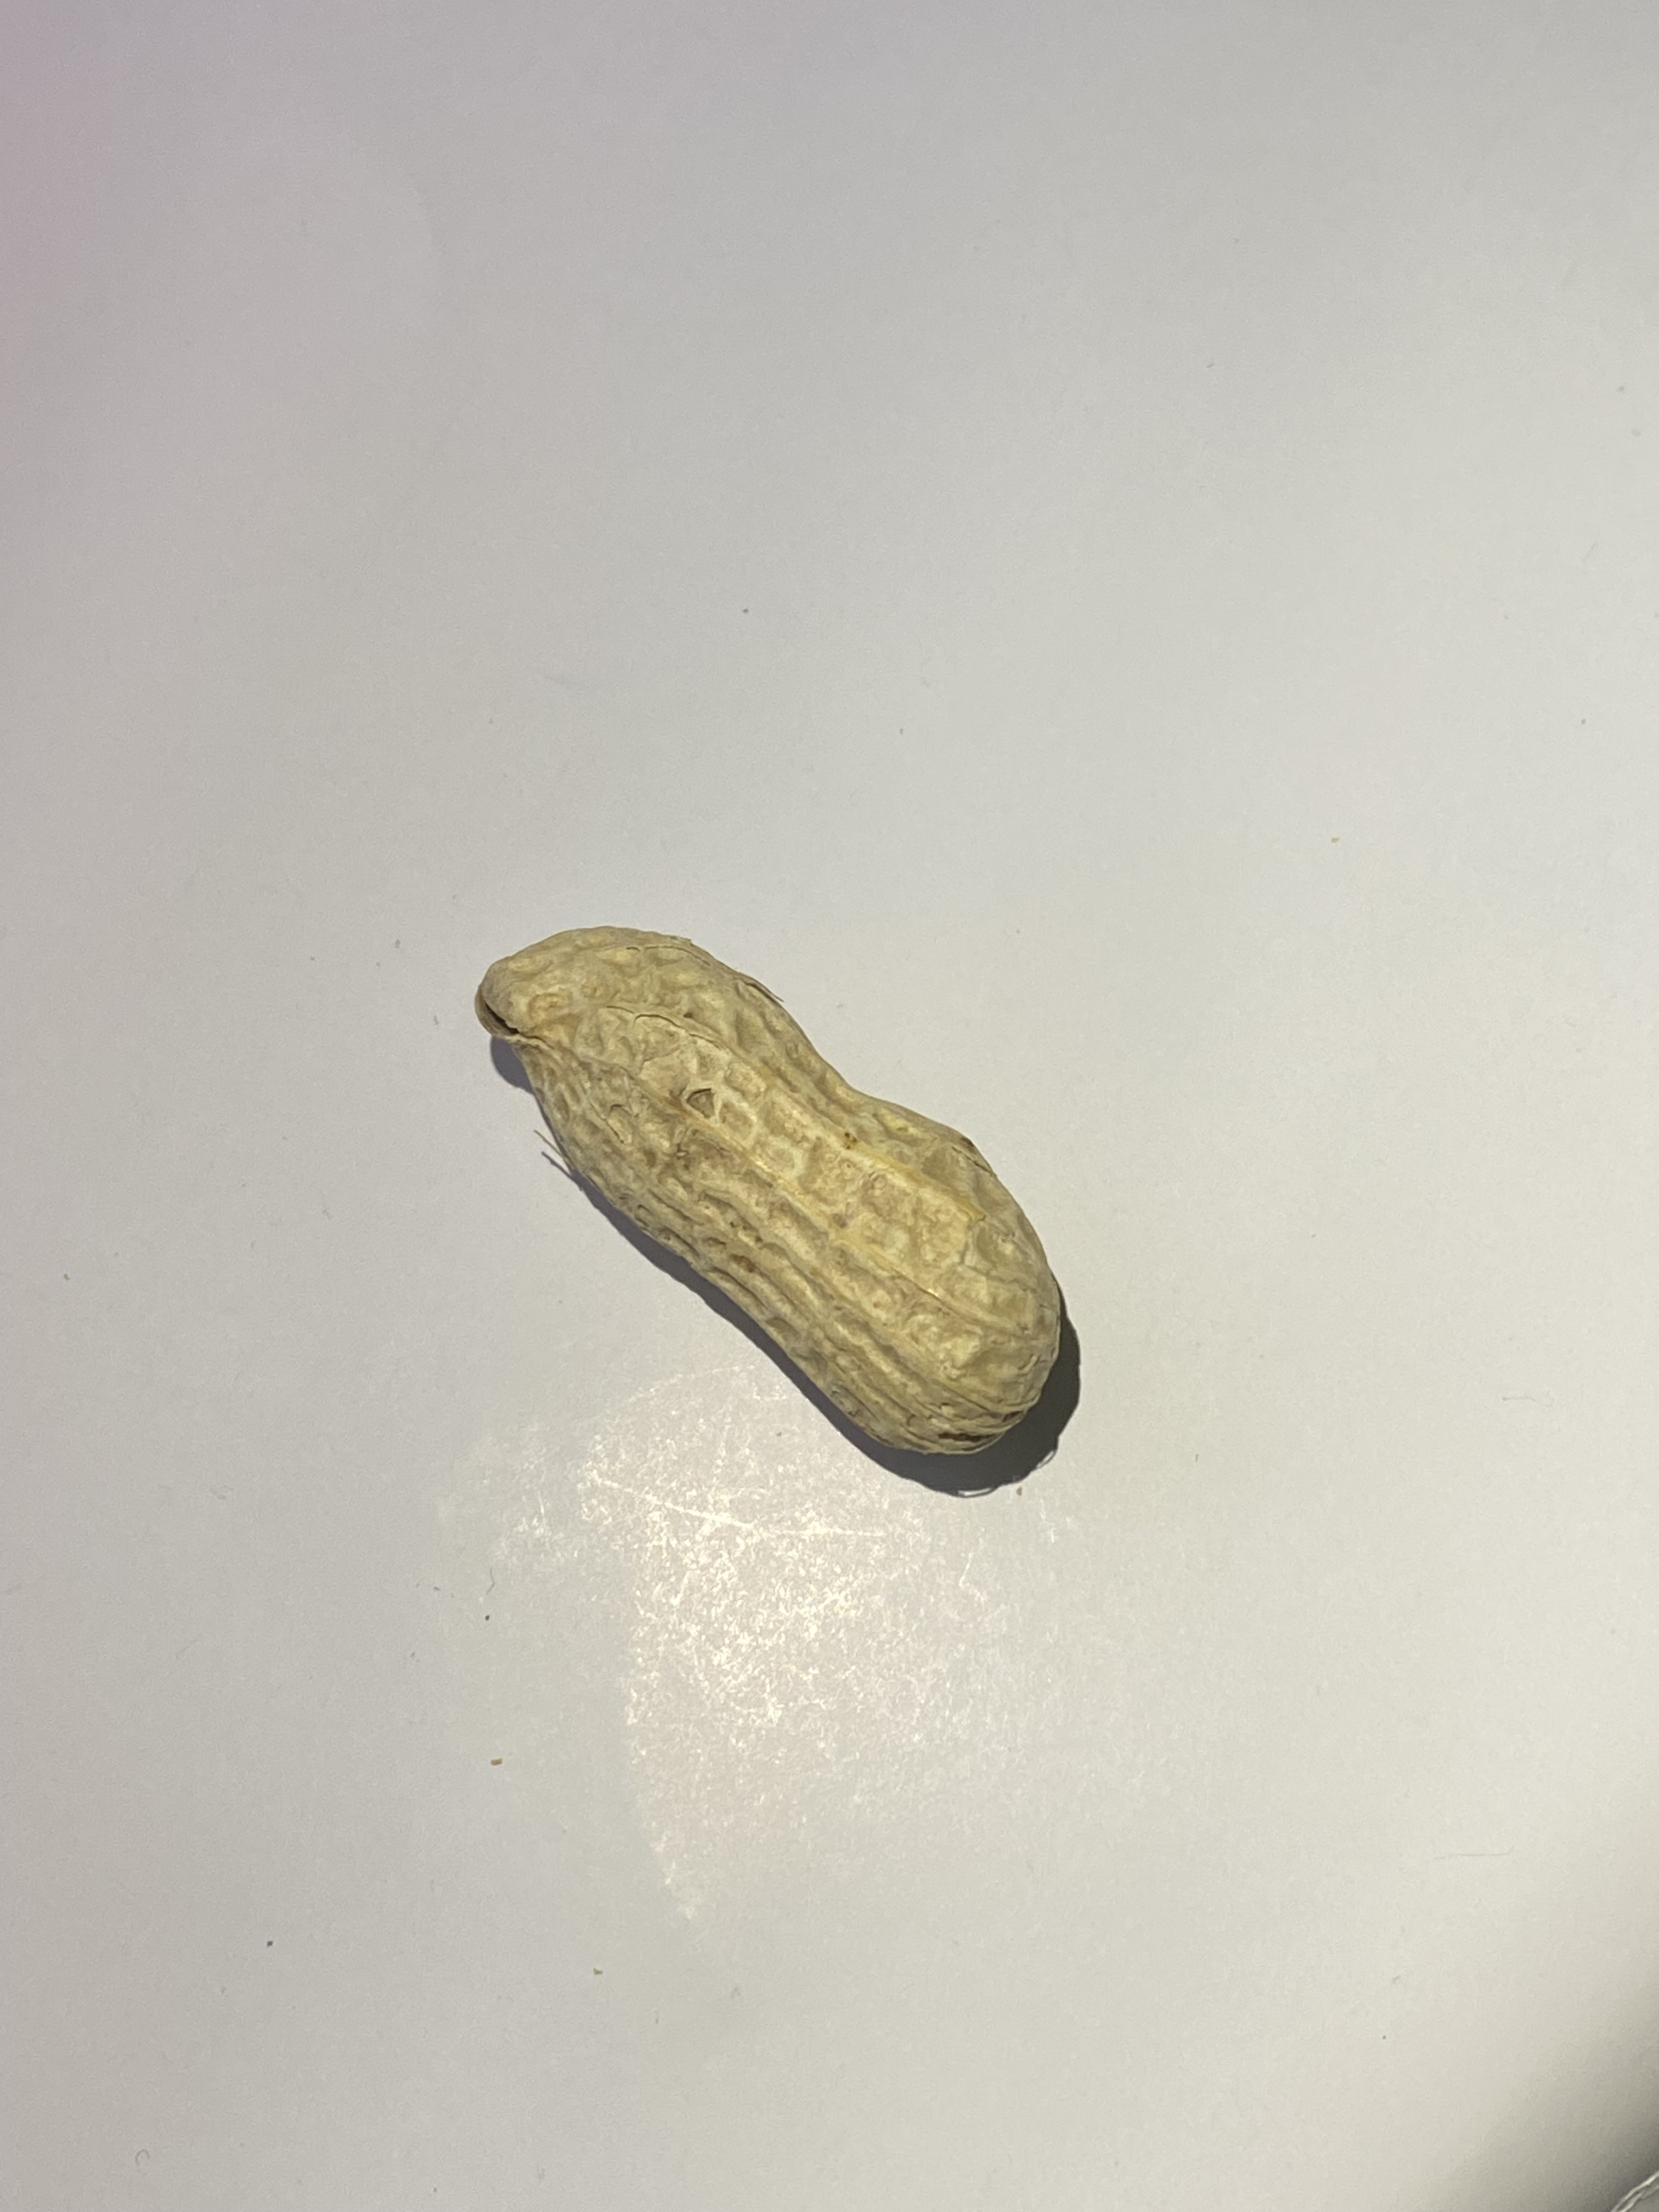kacang2: (443, 894, 1122, 1480)
